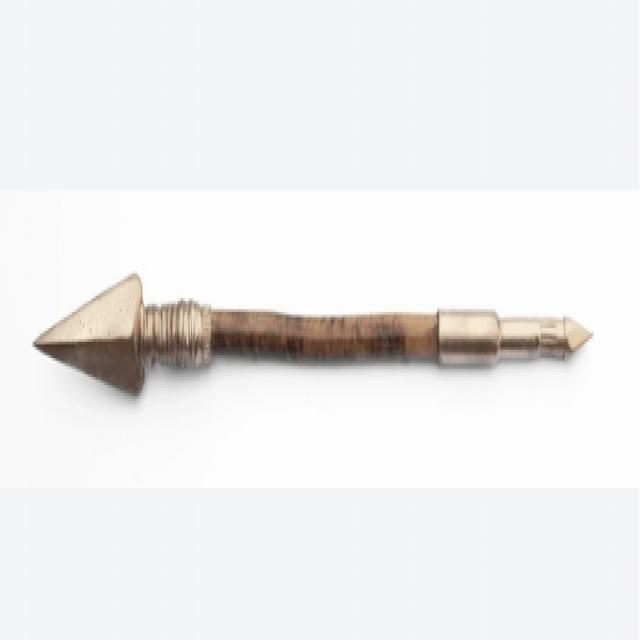spear: (26, 221, 601, 451)
